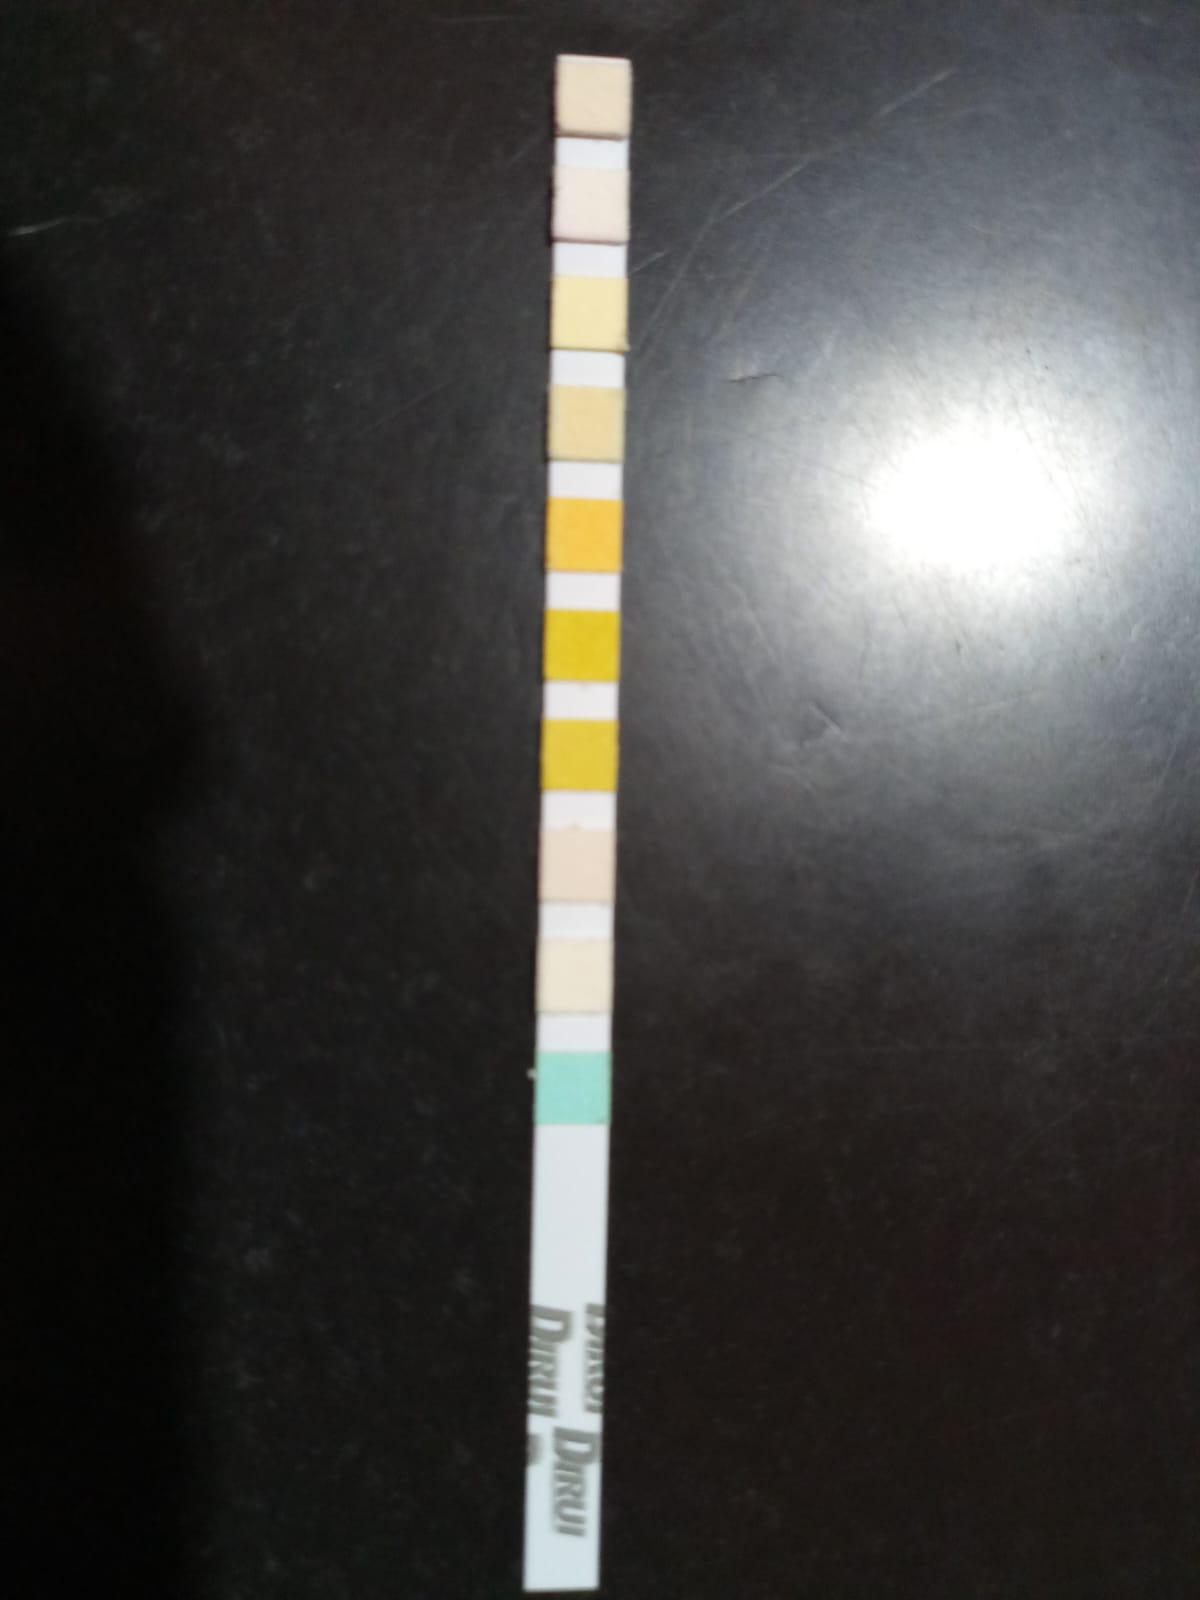color 1: (561, 62, 626, 129)
color 10: (541, 1057, 604, 1117)
color 2: (558, 173, 623, 236)
color 3: (556, 282, 623, 346)
color 4: (551, 391, 623, 457)
color 5: (548, 506, 616, 567)
color 6: (547, 615, 615, 679)
color 7: (545, 724, 614, 787)
color 8: (542, 833, 606, 897)
color 9: (539, 946, 606, 1004)
